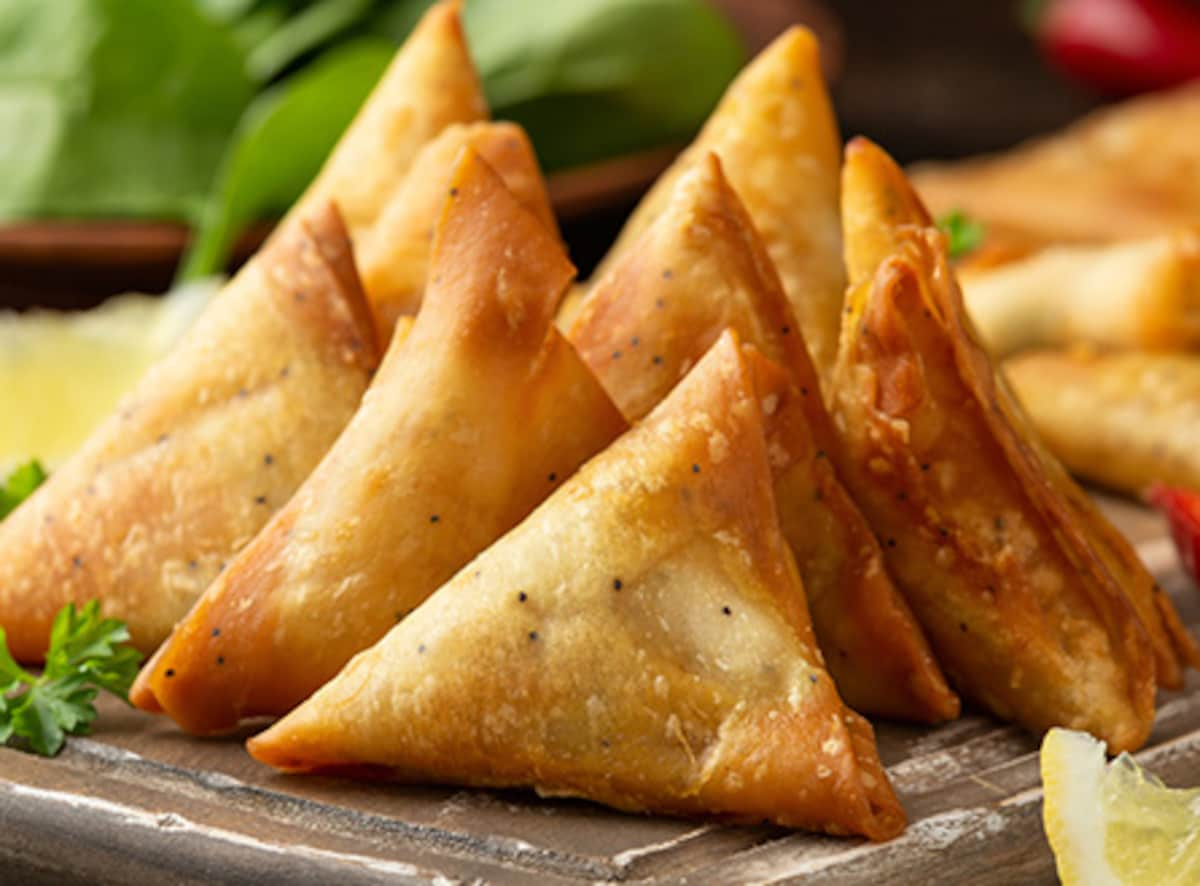samosa: (268, 328, 918, 846), (136, 162, 674, 720), (6, 196, 408, 652), (842, 246, 1176, 748), (274, 0, 504, 242), (646, 30, 874, 258), (822, 134, 994, 300)
